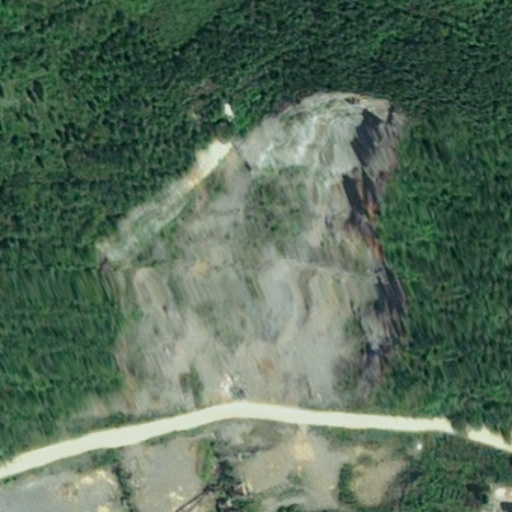landslide: (108, 86, 407, 401)
